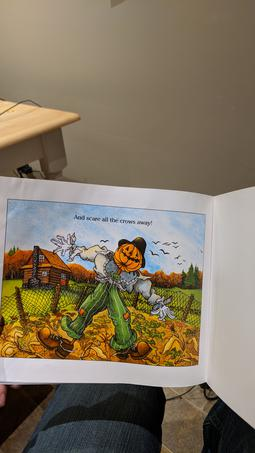text block: (69, 207, 158, 229)
